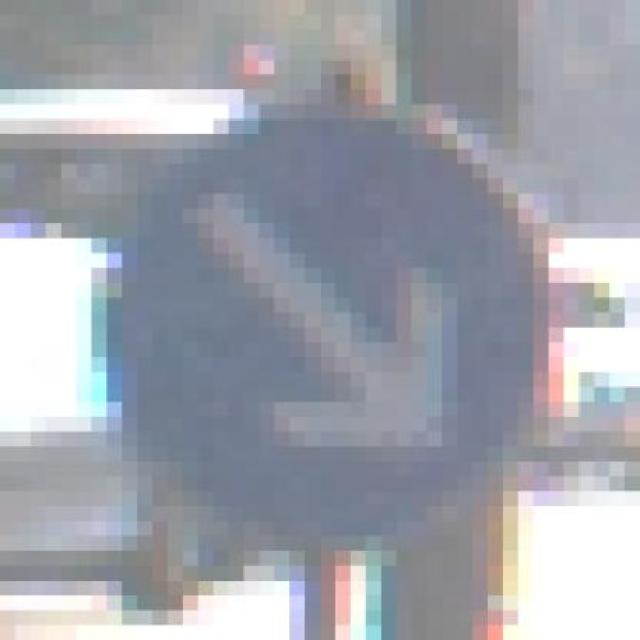Keep-Right: (91, 59, 564, 581)
